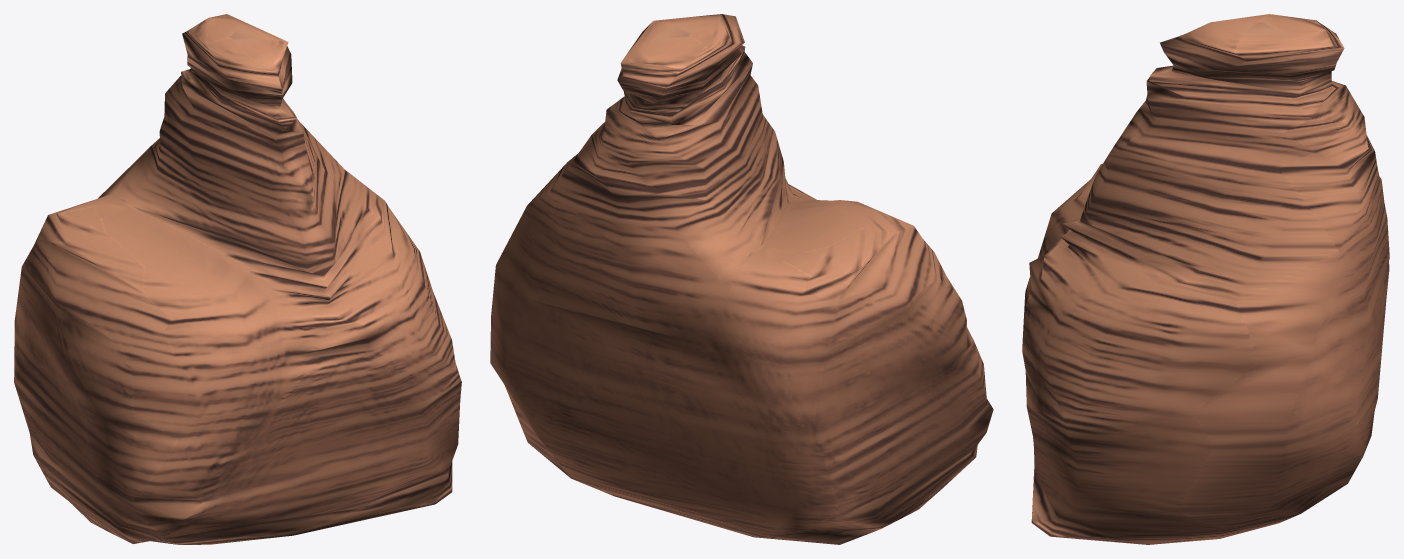
The model's file is Desert_rock_8.fbx.
3 renders of one model, left to right at view 1: azimuth 30°, elevation 25°; view 2: azimuth 150°, elevation 25°; view 3: azimuth 270°, elevation 25°, orthographic. The views are drawn at different scales.
Parts seen in each view (by area): view 1: Desert_rock_8; view 2: Desert_rock_8; view 3: Desert_rock_8.
Part boxes in pixels (left/top/right/bottom): Desert_rock_8: left=14, top=14, right=461, bottom=544; Desert_rock_8: left=490, top=14, right=993, bottom=544; Desert_rock_8: left=1022, top=14, right=1389, bottom=544.
Bounding box in the file's own units: 3.04 × 3.29 × 2.42.
Materials: 1 (1 with a texture image).
